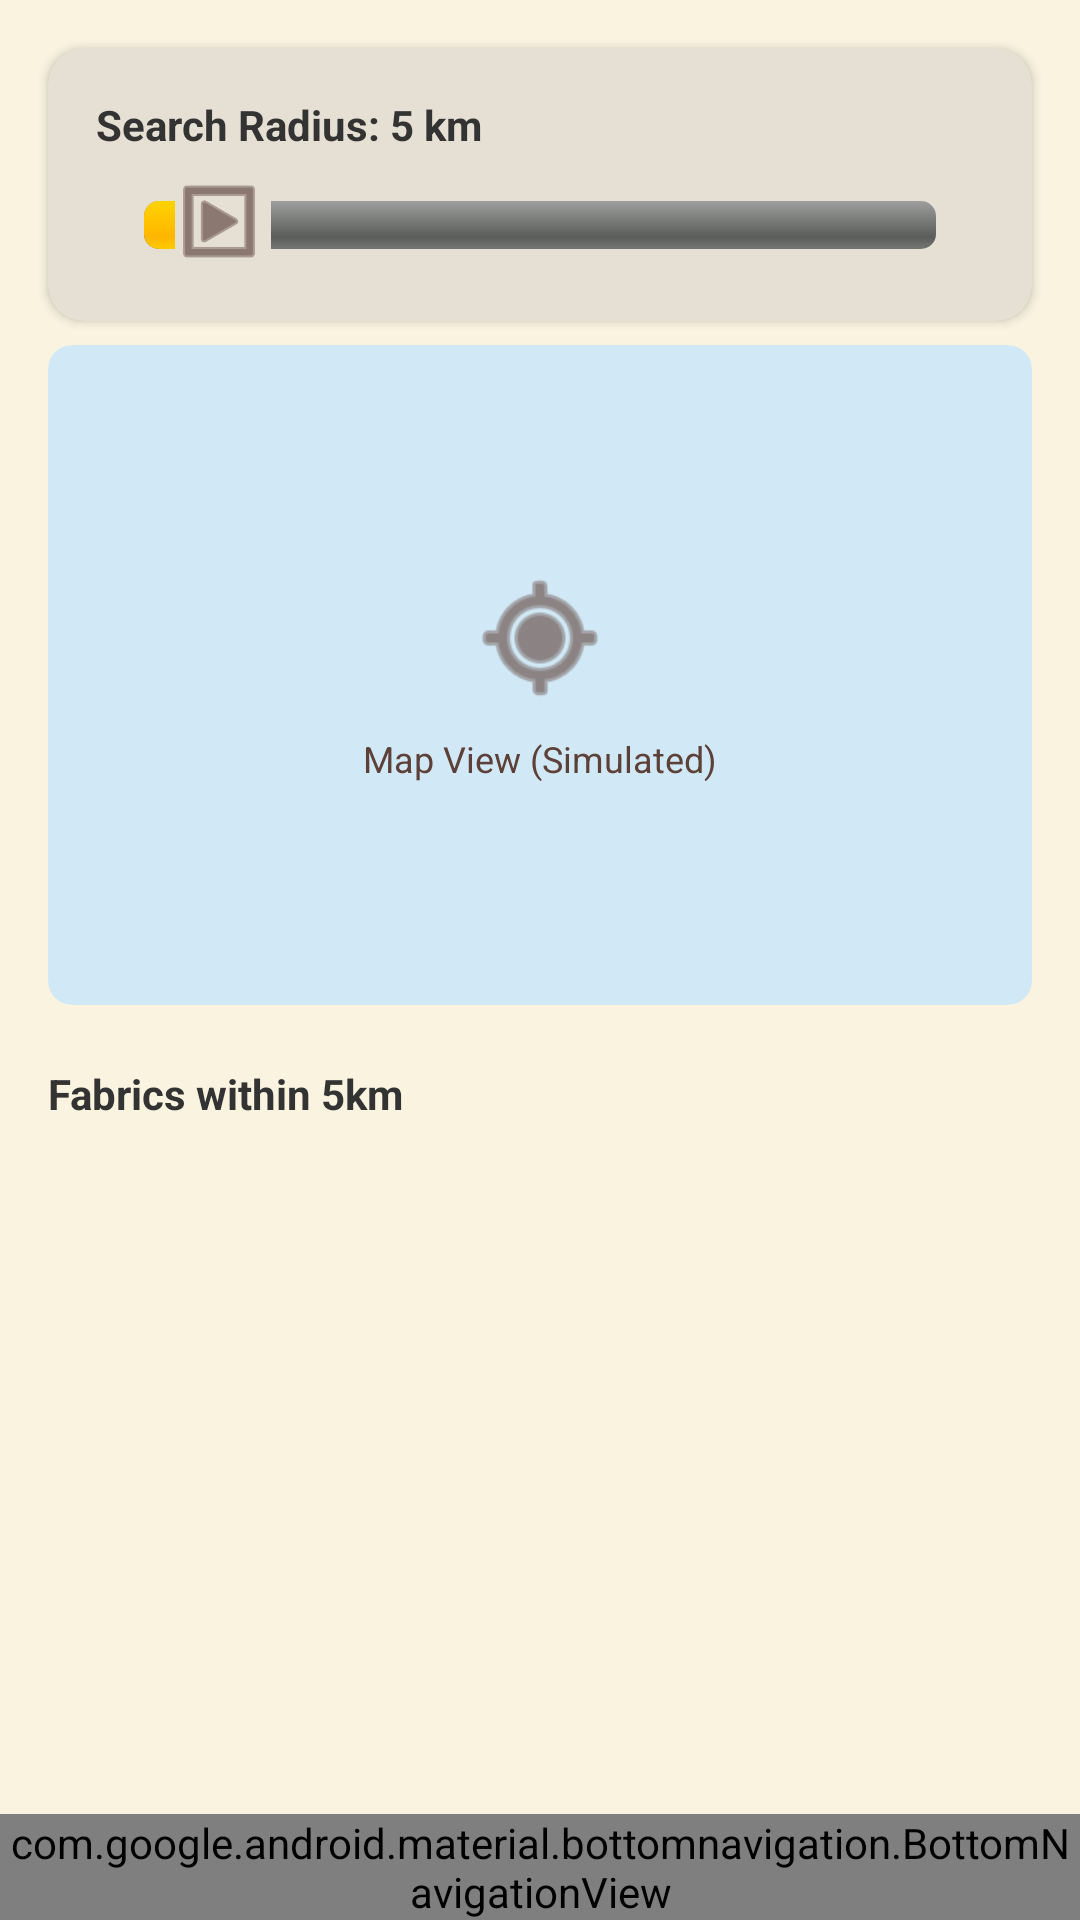

Locate icon controls on the screen. Image size 1080×1920, boxes as (x1, y1, x2, y2).
mylocation: (482, 580, 598, 696)
